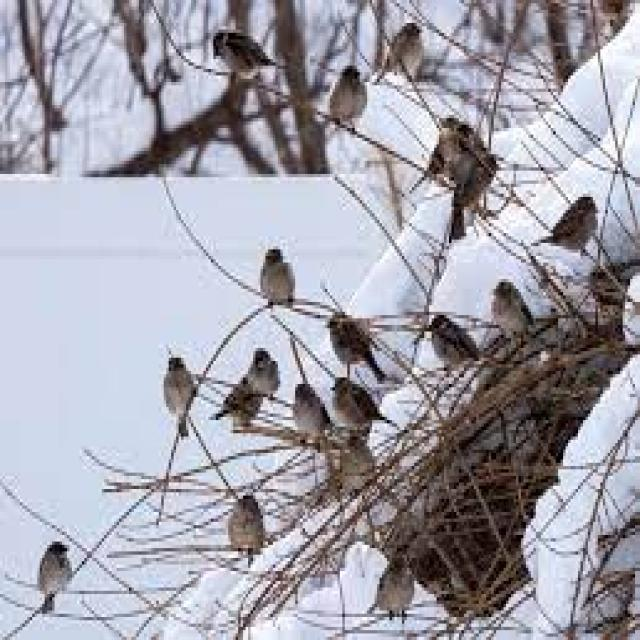bird: (525, 191, 605, 255), (323, 312, 389, 382), (330, 376, 409, 433), (382, 8, 435, 86), (209, 30, 286, 83), (426, 312, 498, 368), (488, 279, 543, 348), (34, 534, 80, 616), (373, 548, 423, 618), (160, 345, 198, 437), (324, 65, 373, 130), (256, 244, 299, 311), (227, 492, 266, 563), (232, 346, 285, 398)
